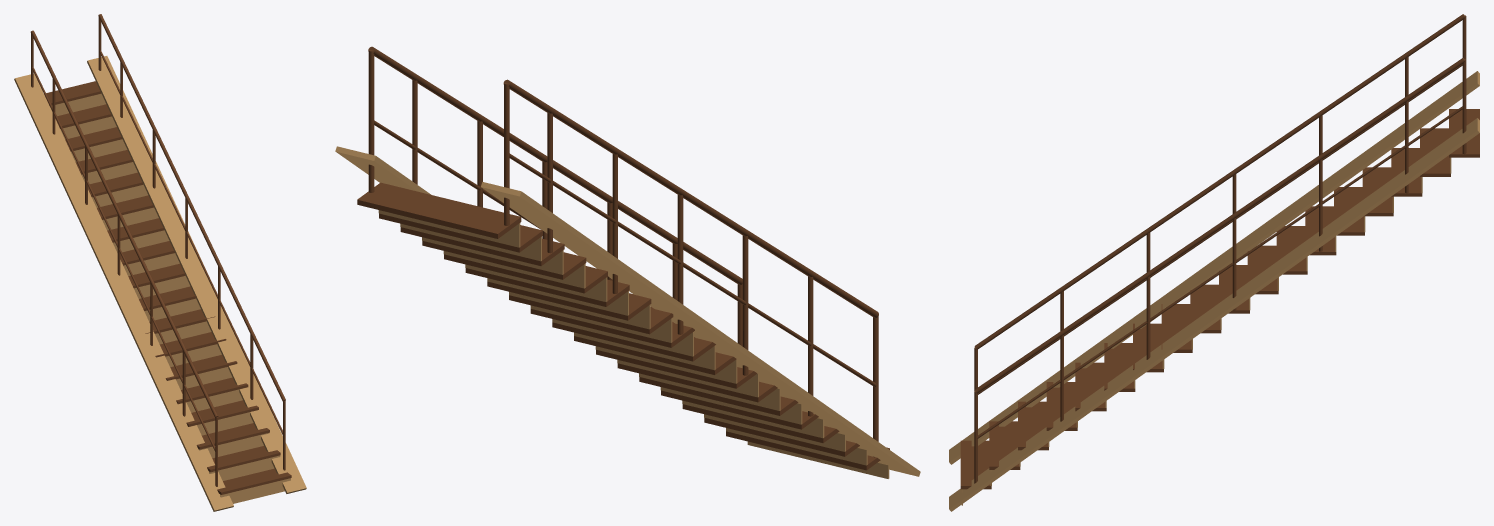
File: circulation.stair.timber_rise_3600.glb
The picture shows the model from 3 angles, left to right: view 1: azimuth 30°, elevation 25°; view 2: azimuth 150°, elevation 25°; view 3: azimuth 270°, elevation 25°; orthographic projection. The views are drawn at different scales.
Visible parts, largest first — view 1: flight__softwood, flight__hardwood, balustrade__hardwood; view 2: flight__softwood, flight__hardwood, balustrade__hardwood; view 3: flight__hardwood, flight__softwood, balustrade__hardwood.
Part boxes in pixels (bbox=[...]): flight__softwood: bbox=[14, 56, 306, 511]; flight__hardwood: bbox=[44, 81, 291, 494]; balustrade__hardwood: bbox=[30, 14, 285, 486]; flight__softwood: bbox=[335, 146, 920, 478]; flight__hardwood: bbox=[357, 182, 889, 470]; balustrade__hardwood: bbox=[368, 46, 878, 457]; flight__hardwood: bbox=[960, 109, 1479, 489]; flight__softwood: bbox=[949, 71, 1479, 511]; balustrade__hardwood: bbox=[974, 14, 1466, 483].
Size of the model in its own units: 1.23 by 4.29 by 4.62.
